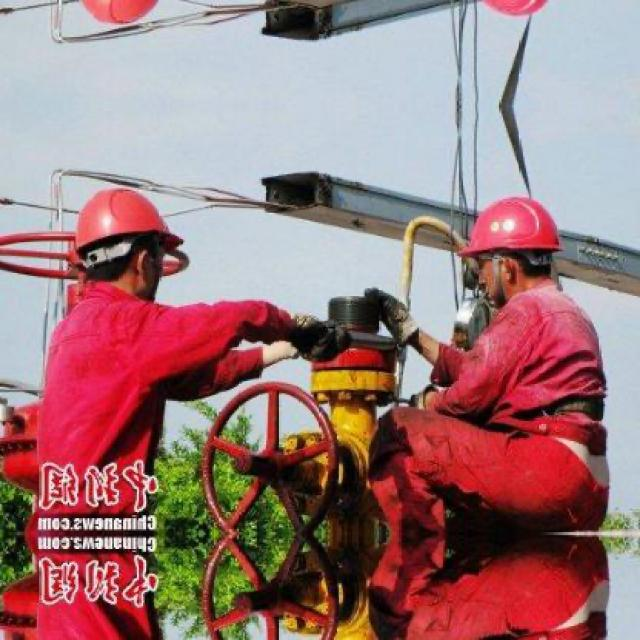helmet: (63, 177, 189, 307), (456, 188, 564, 309), (62, 0, 189, 37), (456, 0, 566, 26)
